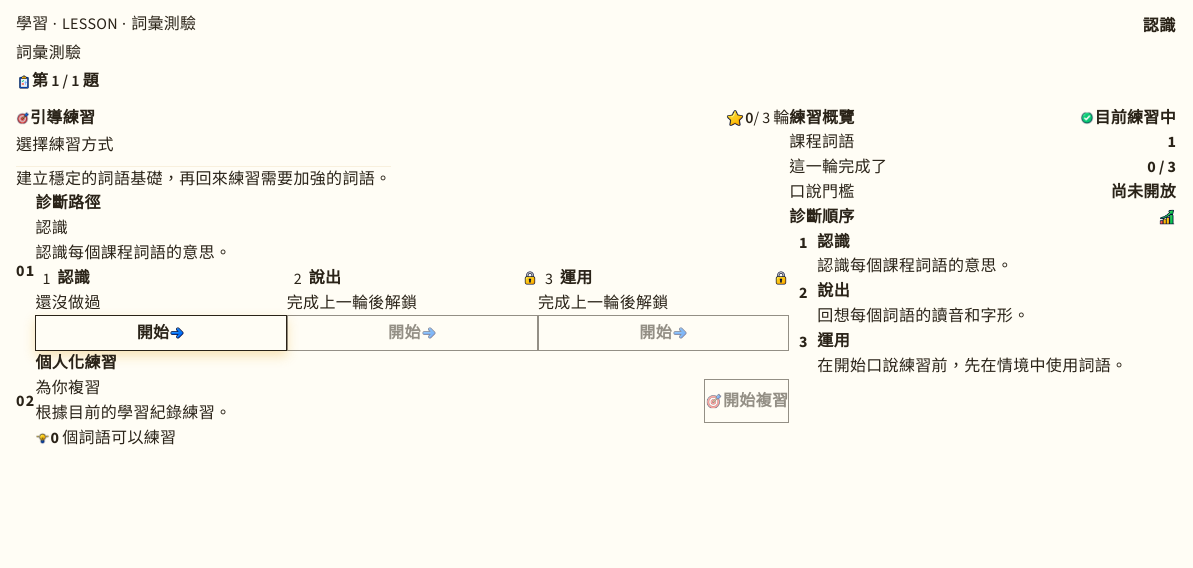
Scenario: VocabularyQuizPage › goes directly to the round result after a wrong answer without feedback or retry
The image size is (1193, 568).
Click the button "開始" below "還沒做過" at (161, 333), box [36,315,287,351]
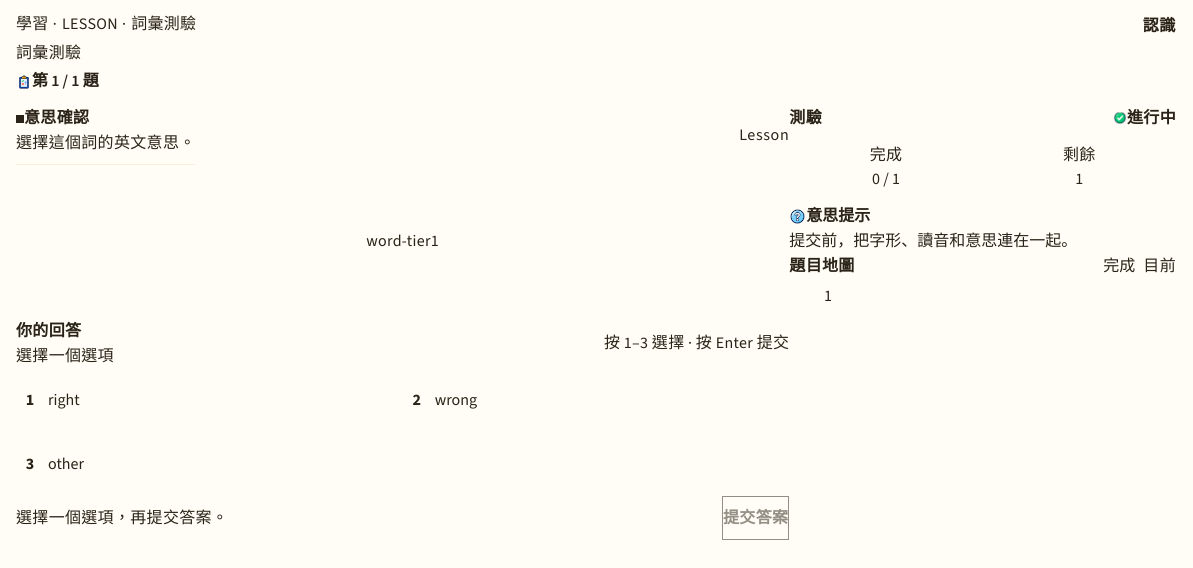
Click the button "2 wrong" at (456, 399), box [403,368,789,432]
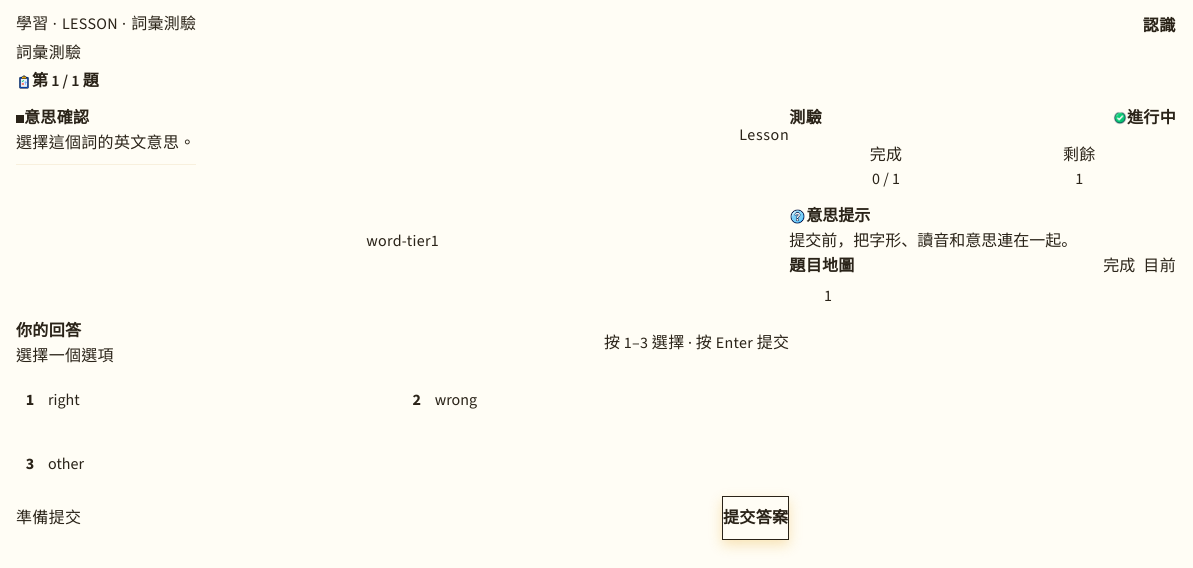
Click the button "提交答案" at (756, 518), box [722,496,789,540]
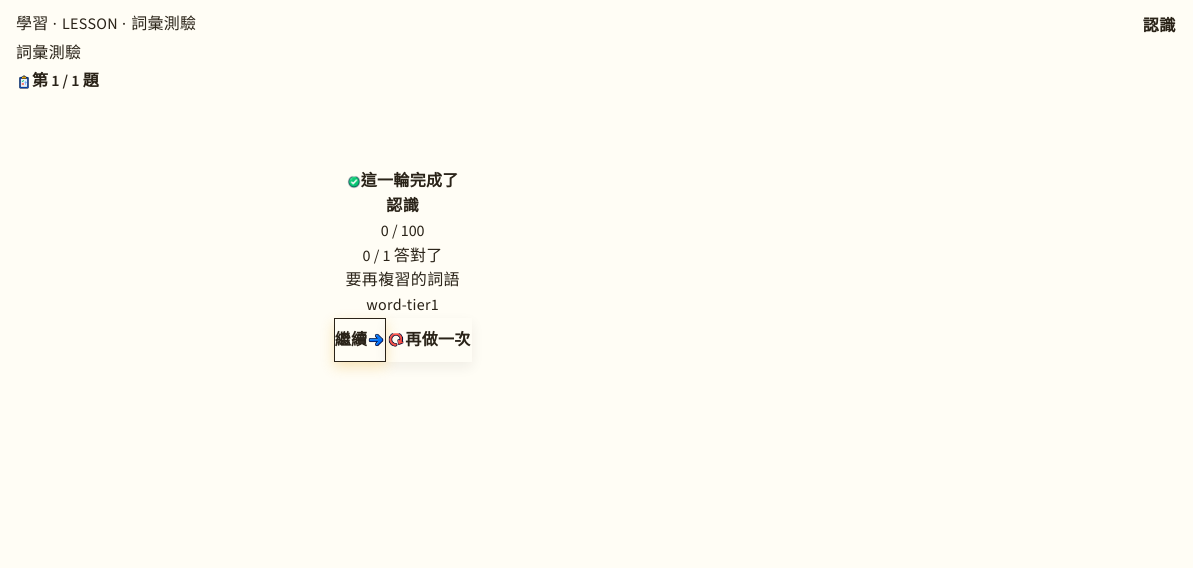
Expected: the list item "word-tier1" is shown, [366,293,439,318]
Expected: the element labelled "0 / 100" is shown, [381,219,425,244]
